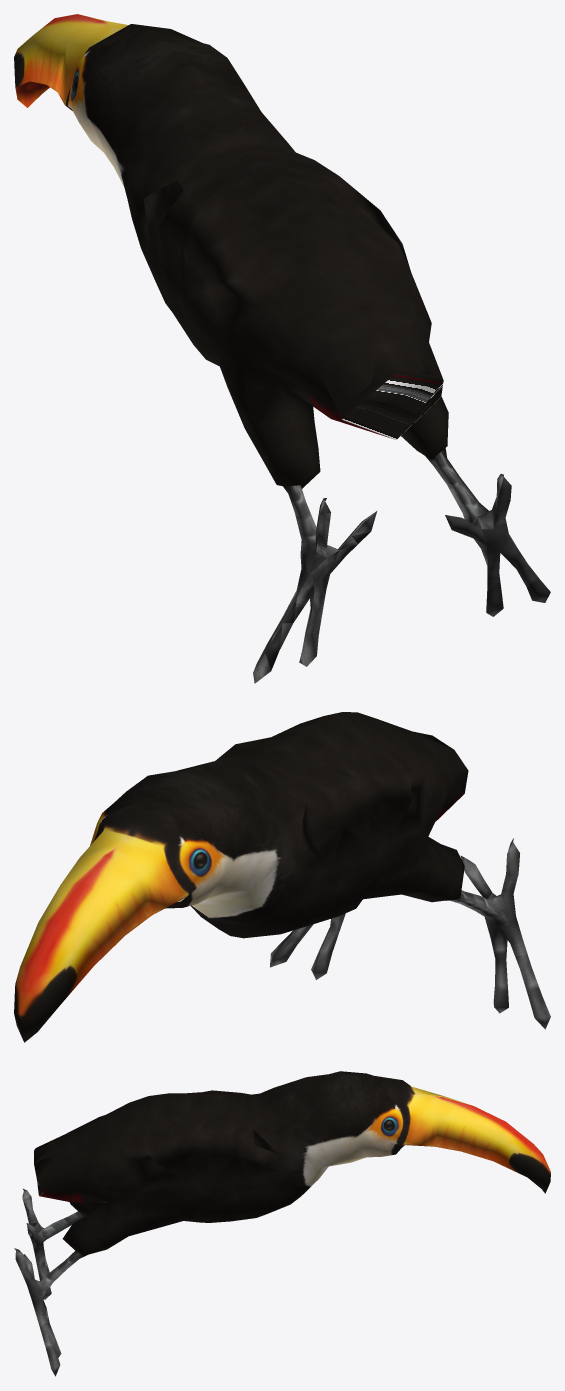
File: corpo.obj
3 views of the same model, one above another, from view 1: azimuth 30°, elevation 25°; view 2: azimuth 150°, elevation 25°; view 3: azimuth 270°, elevation 25° (orthographic). The views are drawn at different scales.
Visible parts, largest first — view 1: corpo_object_0; view 2: corpo_object_0; view 3: corpo_object_0.
Part boxes in pixels (x1=…): corpo_object_0: x1=14, y1=14, x2=550, y2=683; corpo_object_0: x1=14, y1=712, x2=550, y2=1042; corpo_object_0: x1=14, y1=1071, x2=550, y2=1376.
Size of the model in its own units: 1.2 by 1.59 by 2.95.
Materials: 1 (1 with a texture image).
